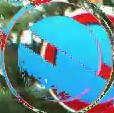No waiting: (6, 1, 113, 111)
